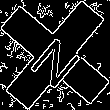N_NE: (23, 23, 87, 87)
